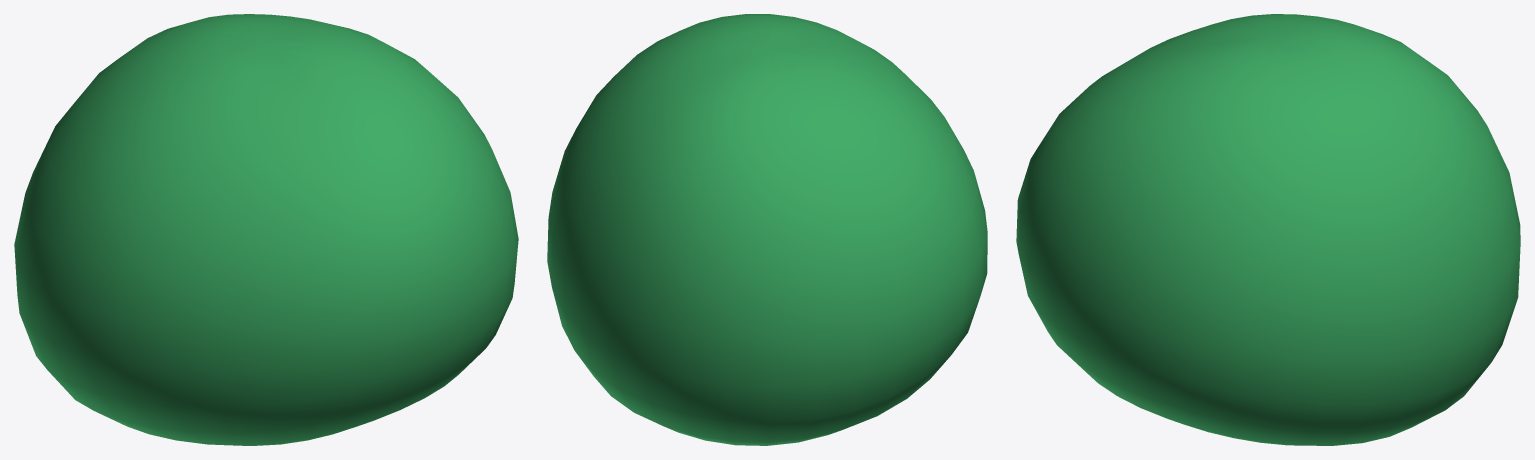
Rendered from Tree_Top_B_01.fbx.
3 renders of one model, left to right at view 1: azimuth 30°, elevation 25°; view 2: azimuth 150°, elevation 25°; view 3: azimuth 270°, elevation 25°, orthographic. The views are drawn at different scales.
Parts seen in each view (by area): view 1: Tree_Top_B_01_LOD0; view 2: Tree_Top_B_01_LOD0; view 3: Tree_Top_B_01_LOD0.
Part boxes in pixels (x1,y1,x2,y2): Tree_Top_B_01_LOD0: [14, 14, 518, 445]; Tree_Top_B_01_LOD0: [547, 14, 987, 445]; Tree_Top_B_01_LOD0: [1016, 14, 1520, 445].
Size of what is drawn, in the model's own units: 581 by 486 by 593.
